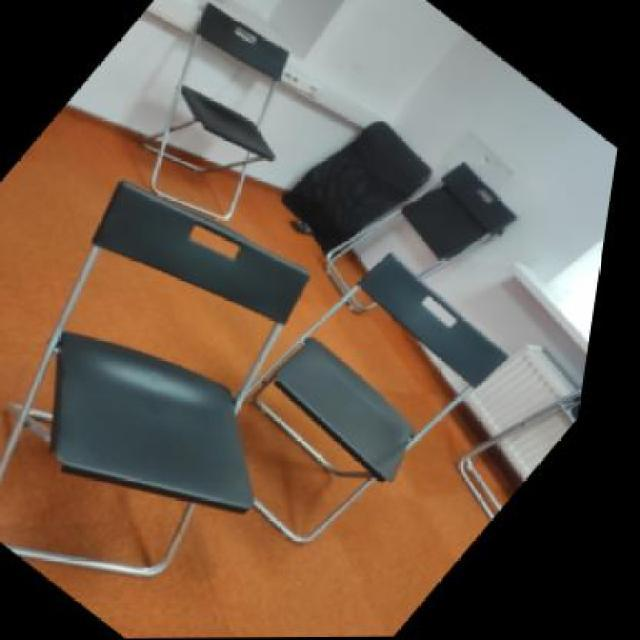chair: (0, 132, 418, 638), (180, 226, 537, 568), (63, 0, 380, 257)
